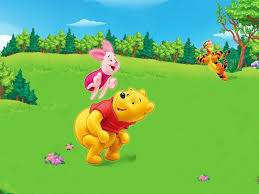Winnie: (108, 88, 152, 133)
